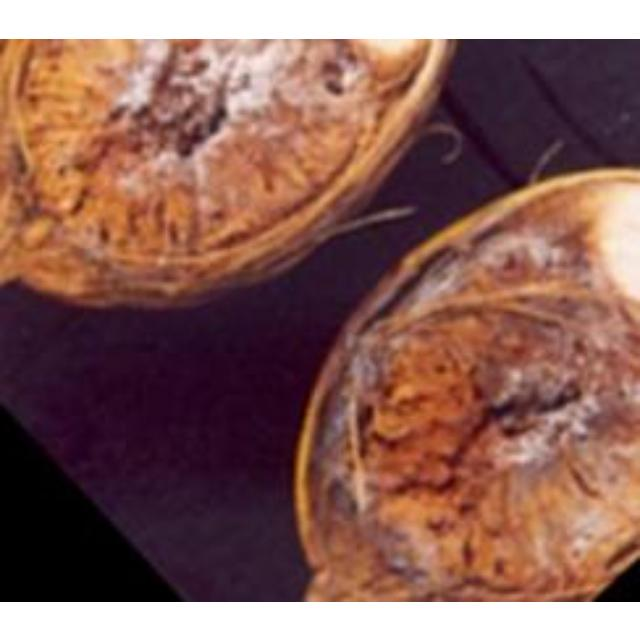damaged: (291, 167, 637, 599), (0, 38, 462, 311)
